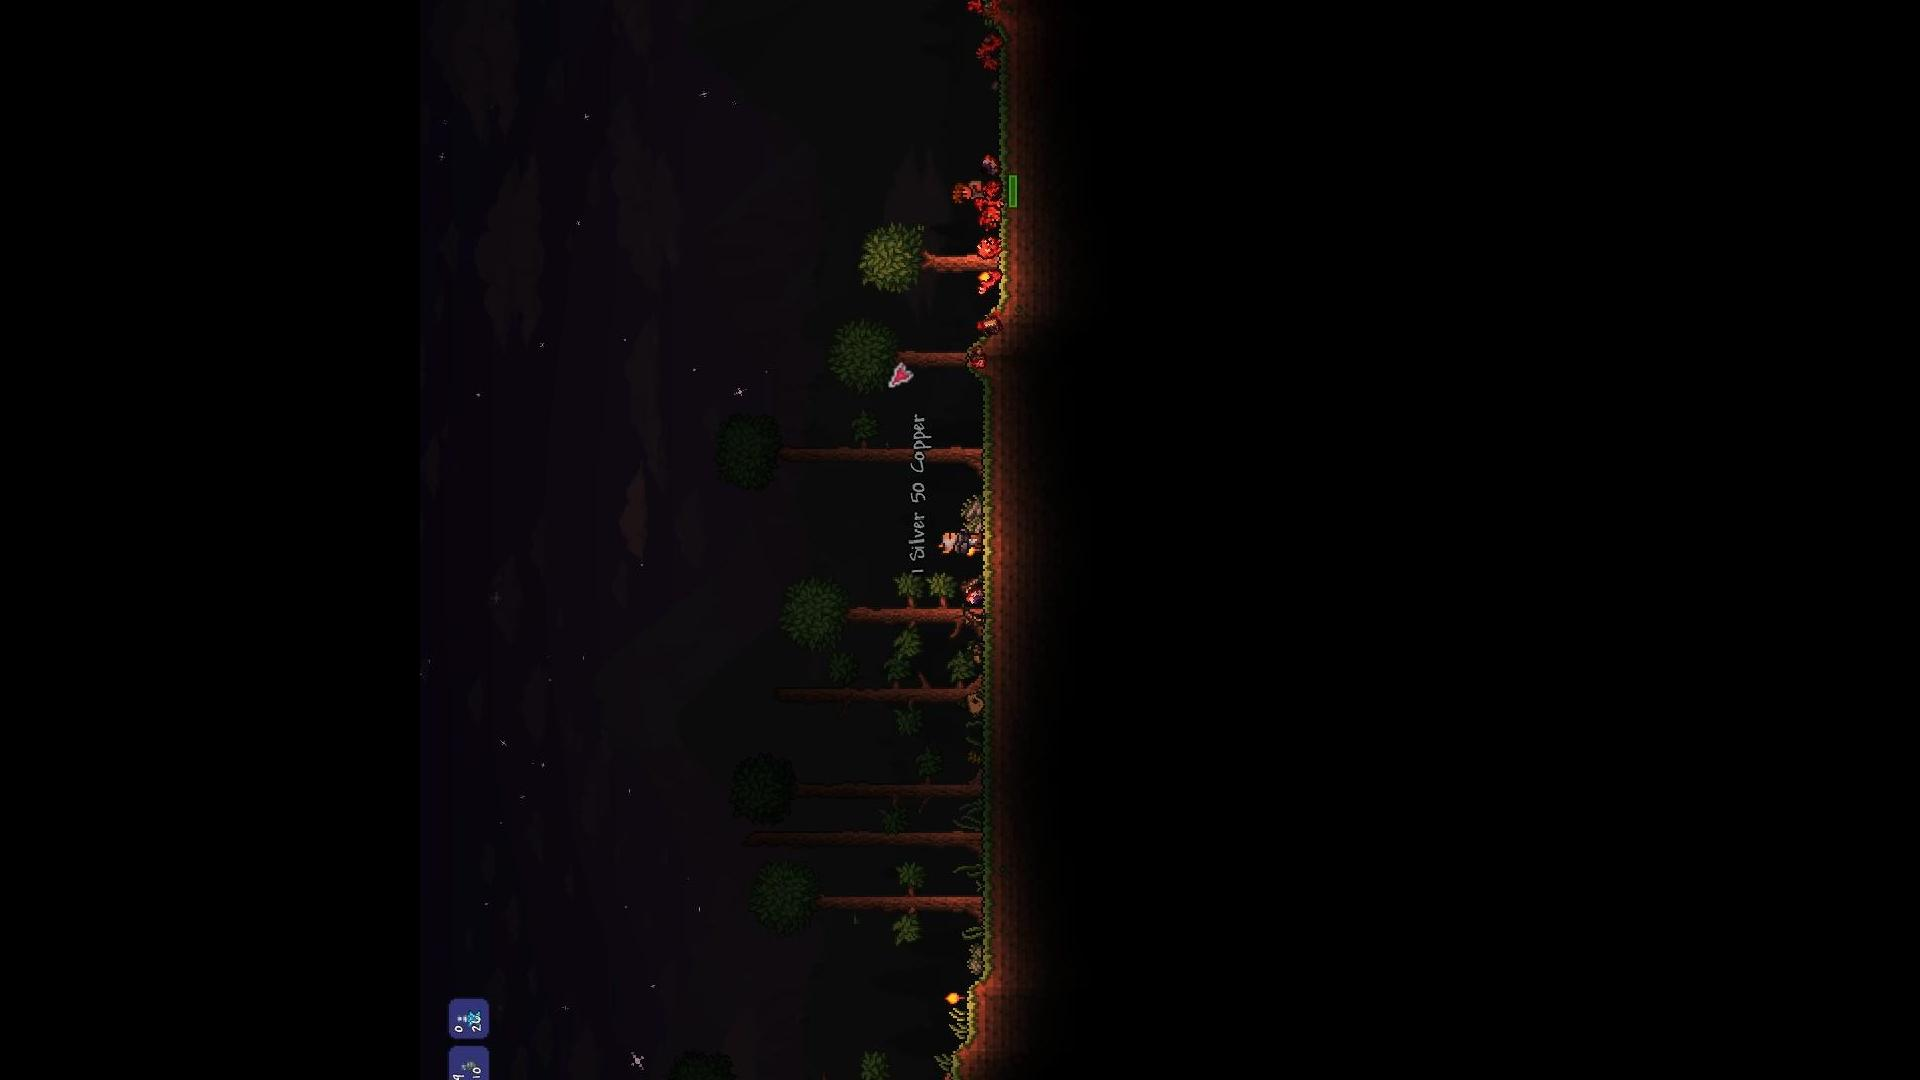dirt: (965, 345, 1021, 986), (972, 15, 1025, 348), (924, 975, 1007, 1080)
